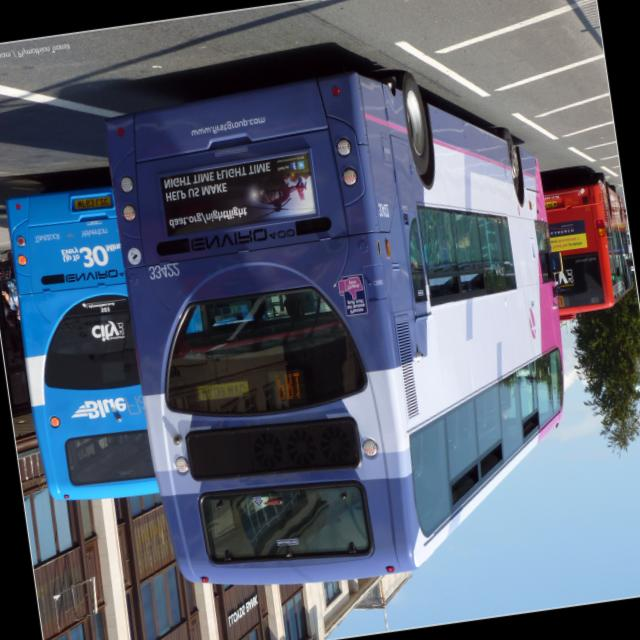bus: (99, 43, 604, 606), (4, 156, 355, 508), (540, 170, 640, 324)
